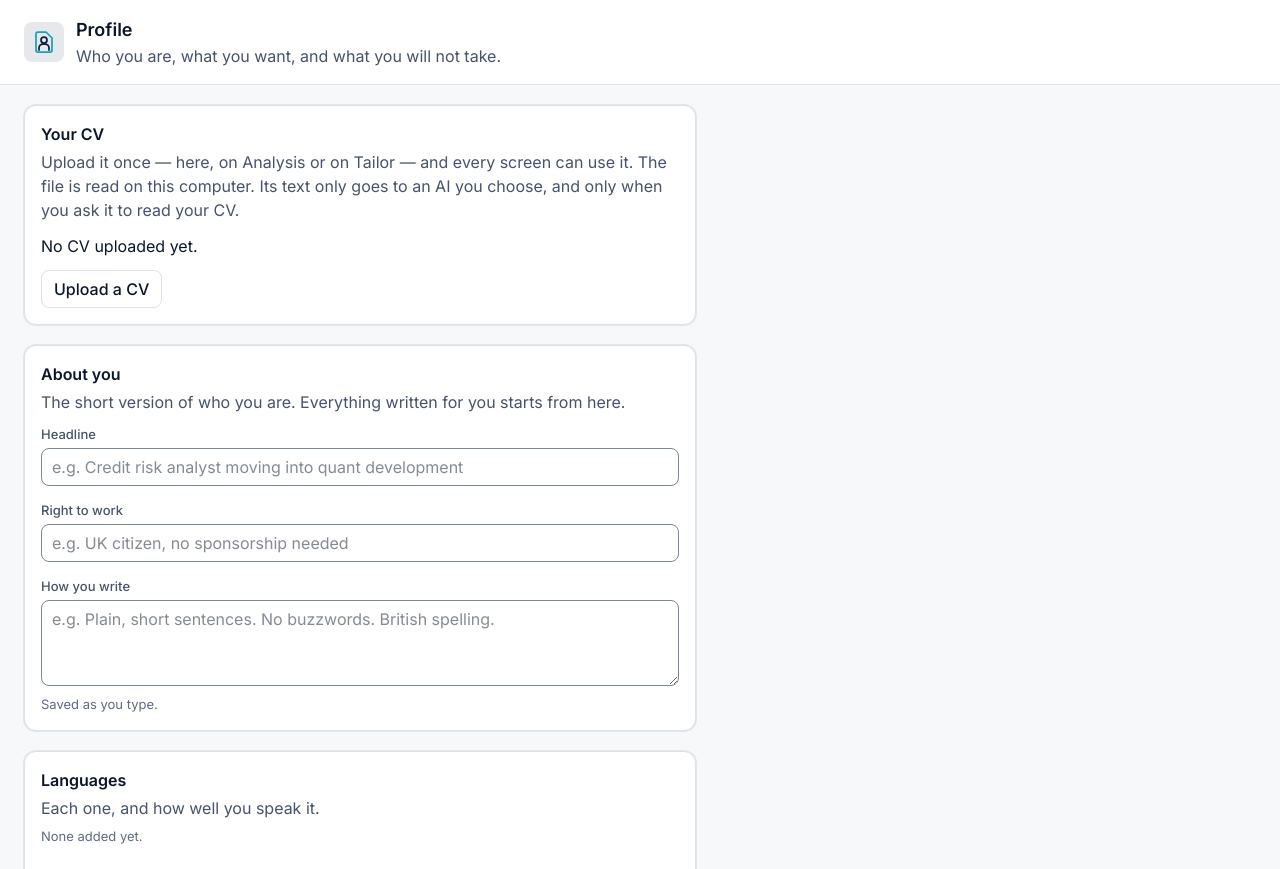
editing a field › negative: says so when the save fails, and keeps what was typed on screen
Step 1. Type "Quant developer" into the field with test id "profile-headline" → (360, 467), box [41,448,679,486]
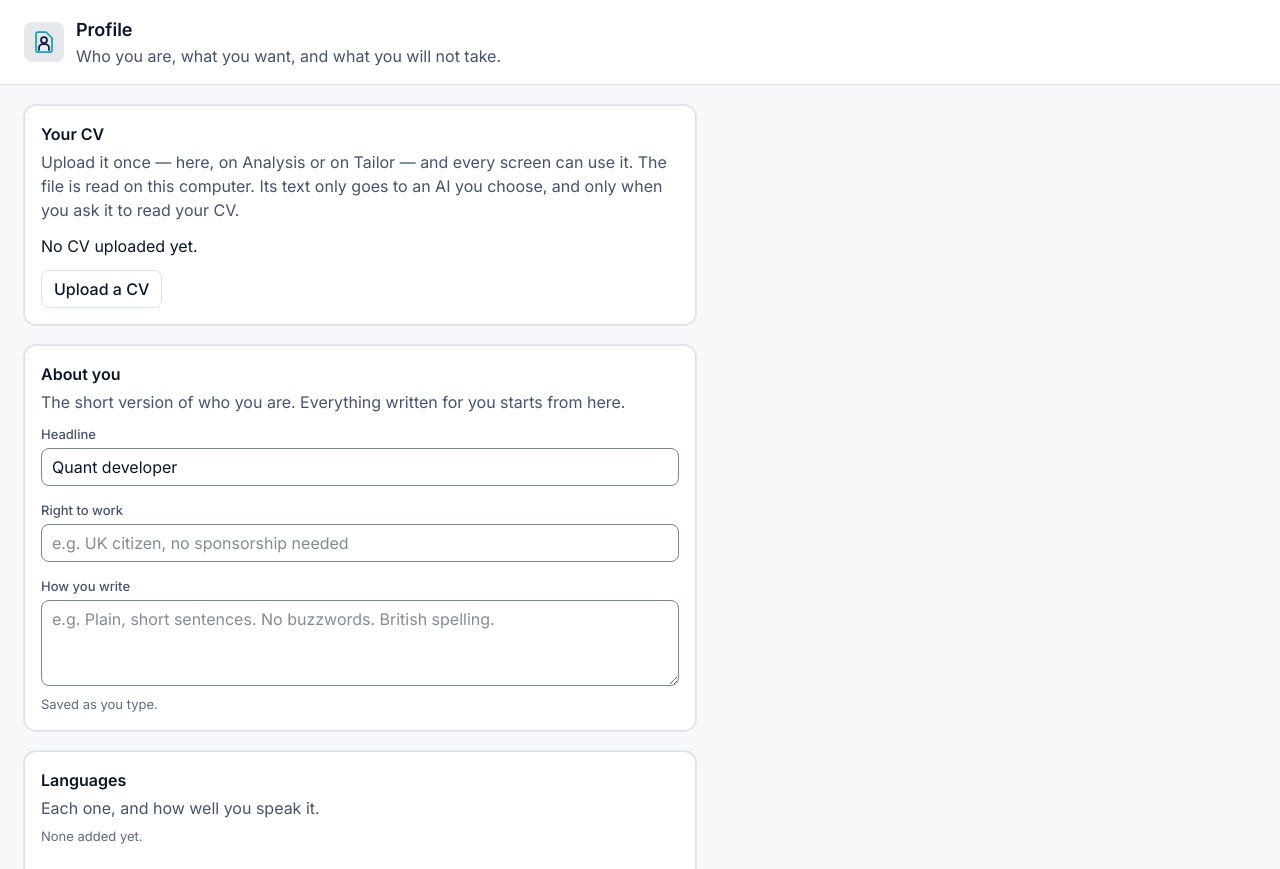
Step 2. Leave the field with test id "profile-headline", box [41,448,679,486]
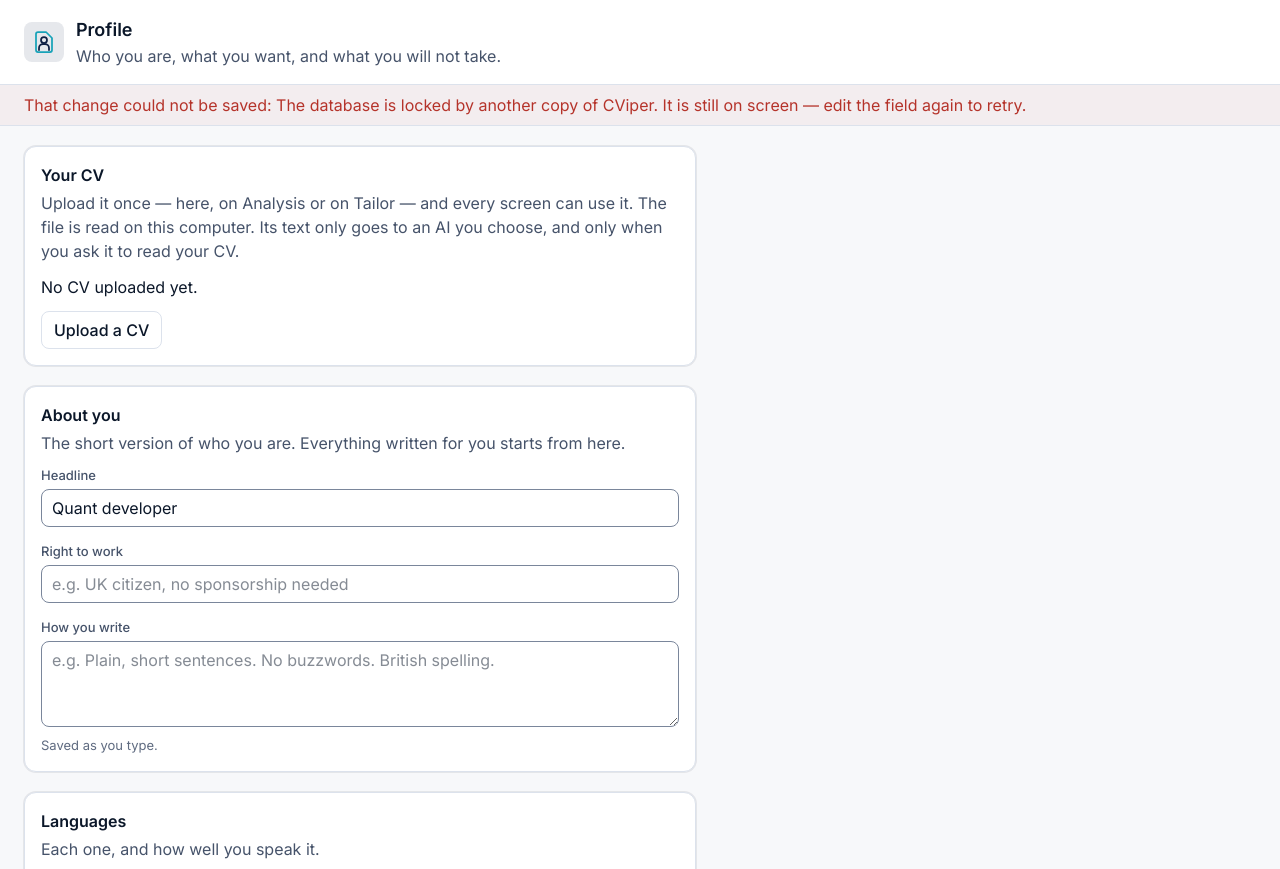
Expected: the message shows "could not be saved", [24,95,1026,115]
Expected: the message shows "The database is locked", [24,95,1026,115]
